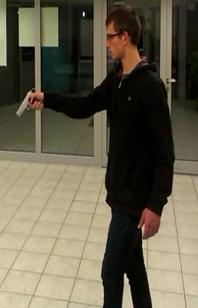pistol: (15, 88, 39, 117)
